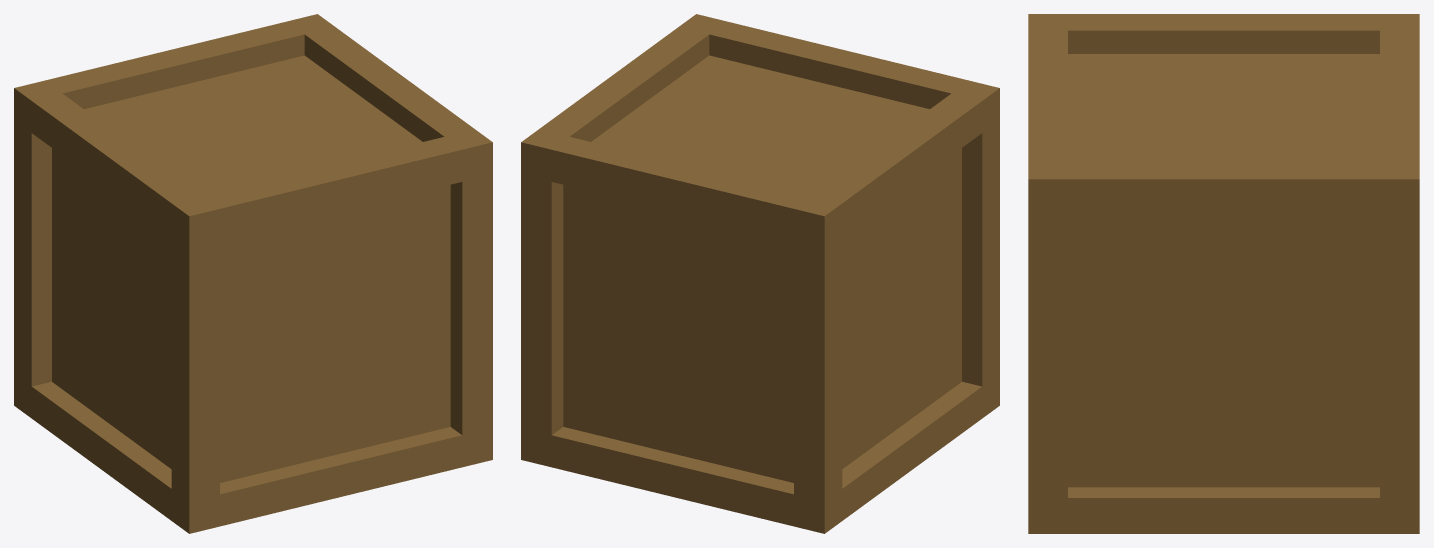
The model's file is Crate.fbx.
3 renders of one model, left to right at view 1: azimuth 30°, elevation 25°; view 2: azimuth 150°, elevation 25°; view 3: azimuth 270°, elevation 25°, orthographic. The views are drawn at different scales.
Visible parts, largest first — view 1: Crate; view 2: Crate; view 3: Crate.
Boxes of the visible parts, x1,y1,x2,y2 form: Crate: (14,14,492,533); Crate: (521,14,999,533); Crate: (1028,14,1419,533).
Size of the model in its own units: 200 by 200 by 200.
